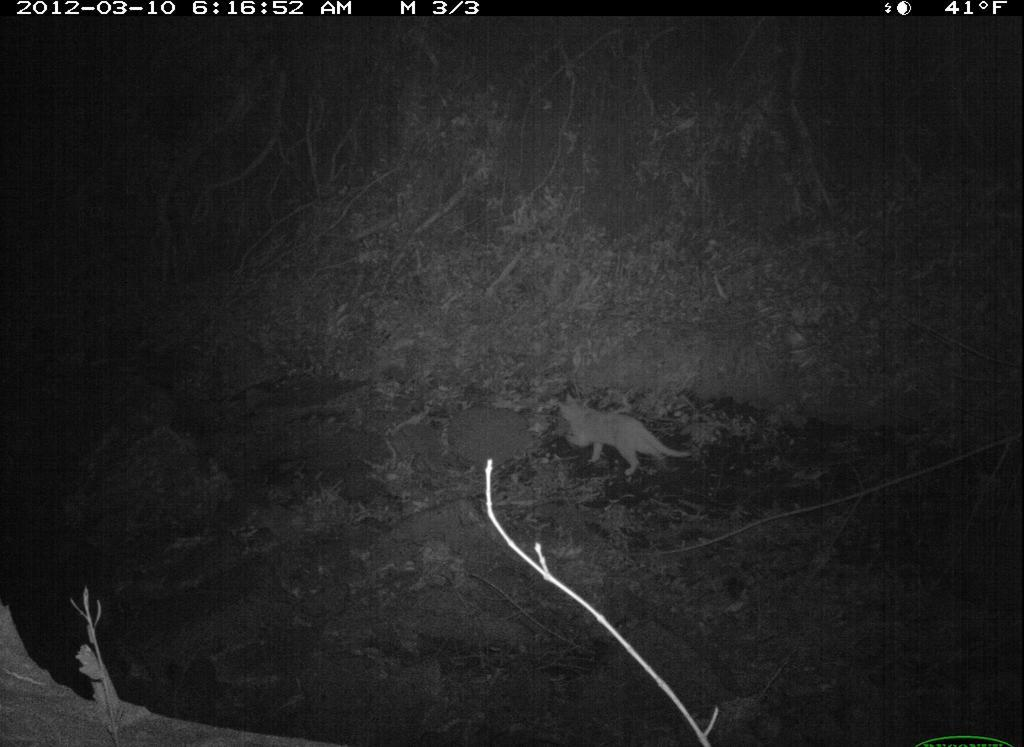cat: (557, 392, 694, 481)
